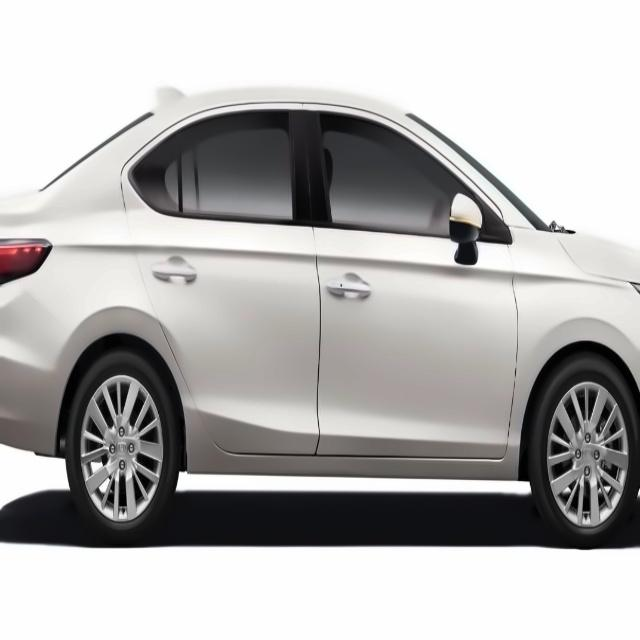Car hood: (546, 221, 640, 285)
Driver-s door - -F-R-: (319, 93, 520, 458)
Fender - -F-R-: (500, 221, 640, 488)
Fender - -R-R-: (22, 200, 206, 480)
Passenger-s door - -R-R-: (116, 90, 321, 455)
Rear bumper: (0, 332, 71, 465)
Rear light - -R-: (0, 220, 64, 295)
Side bumper - -R-: (174, 439, 530, 483)
Side mirror - -R-: (423, 174, 492, 274)
